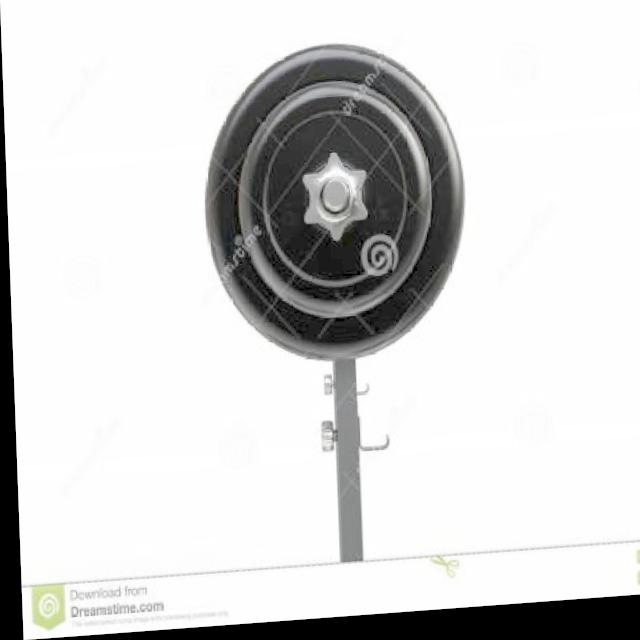barbell: (196, 38, 477, 383)
